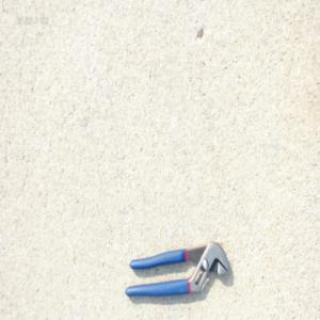Pliertrack_idkeyframe: (123, 238, 230, 297)
